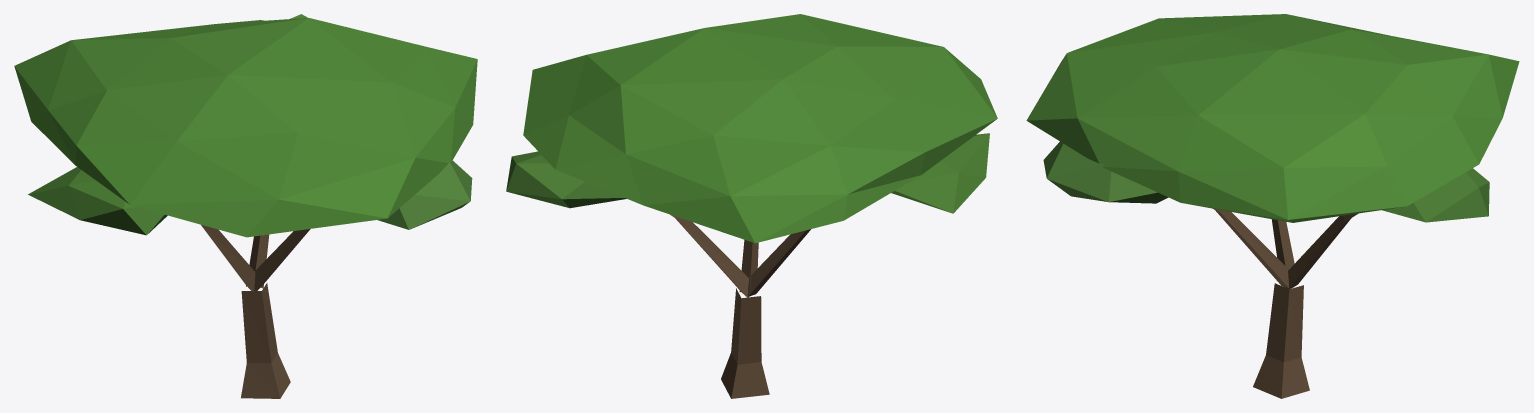
The model's file is umbrella_b_lod1.glb.
3 renders of one model, left to right at view 1: azimuth 30°, elevation 25°; view 2: azimuth 150°, elevation 25°; view 3: azimuth 270°, elevation 25°, orthographic. The views are drawn at different scales.
Visible parts, largest first — view 1: umbrella; view 2: umbrella; view 3: umbrella.
Boxes of the visible parts, x1,y1,x2,y2 form: umbrella: (14, 14, 477, 398); umbrella: (506, 14, 997, 398); umbrella: (1026, 14, 1519, 398).
Size of the model in its own units: 15.78 by 11.18 by 15.47.
